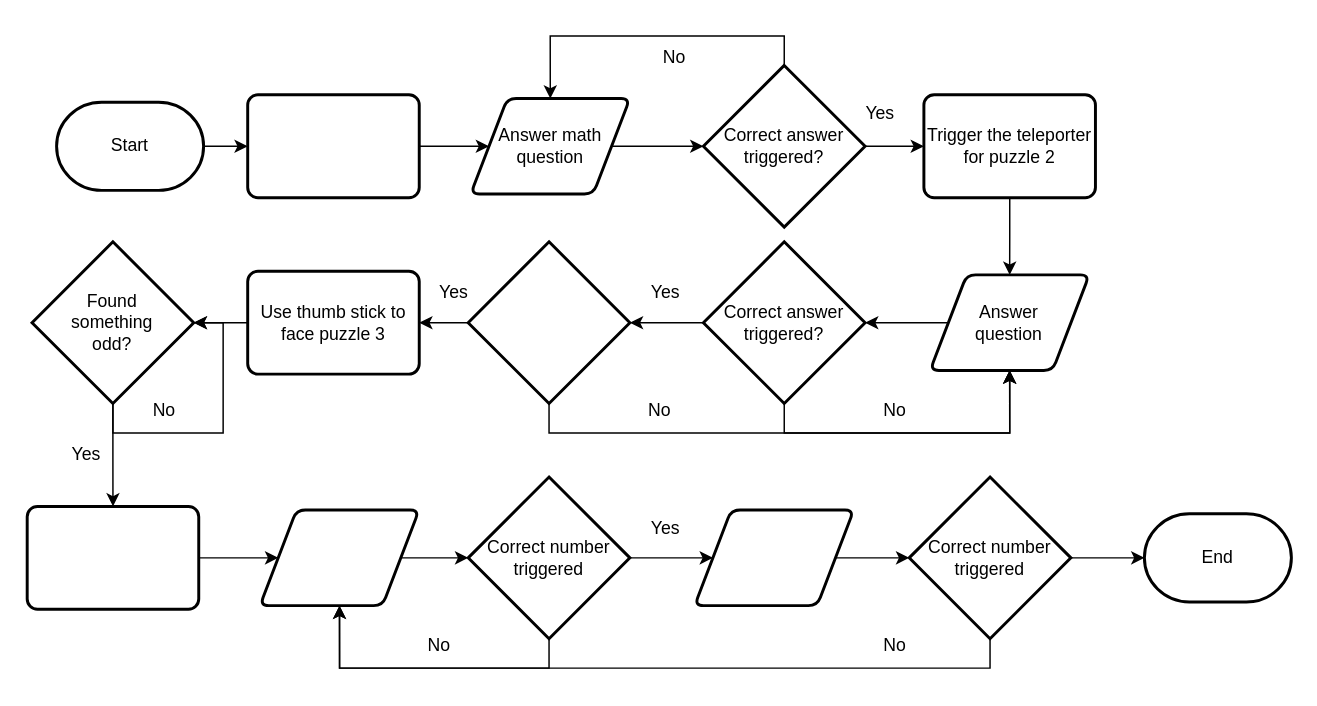
Some shapes in this 1317 by 706 pixel diagram are drawn without their labels. The shapes that lost their labels are listed below. From the top down, each one's box as (x1, y1, x2, y2) in pixels, then its label:
(245, 93, 420, 198): Use thumb stick to face puzzle 1
(466, 240, 631, 404): Four questions answered?
(25, 504, 199, 610): Trigger the teleporter for puzzle 4
(258, 508, 420, 606): Trigger first number
(692, 508, 855, 606): Trigger second number
